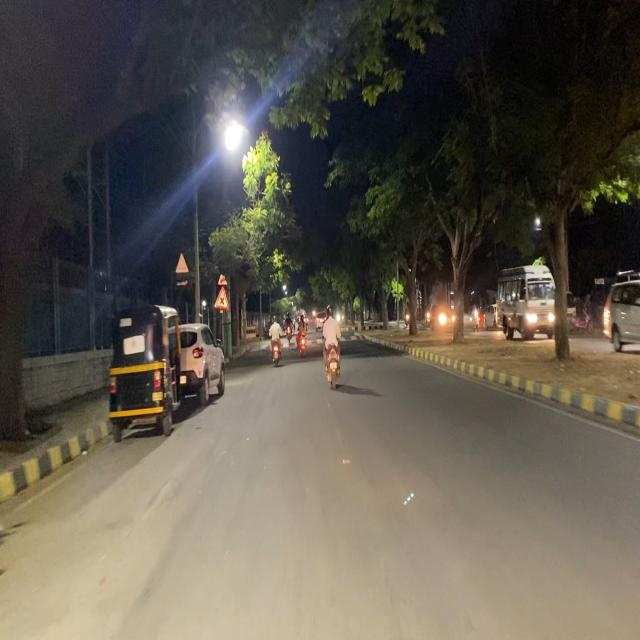bien_nguy_hiem: (213, 284, 229, 312)
